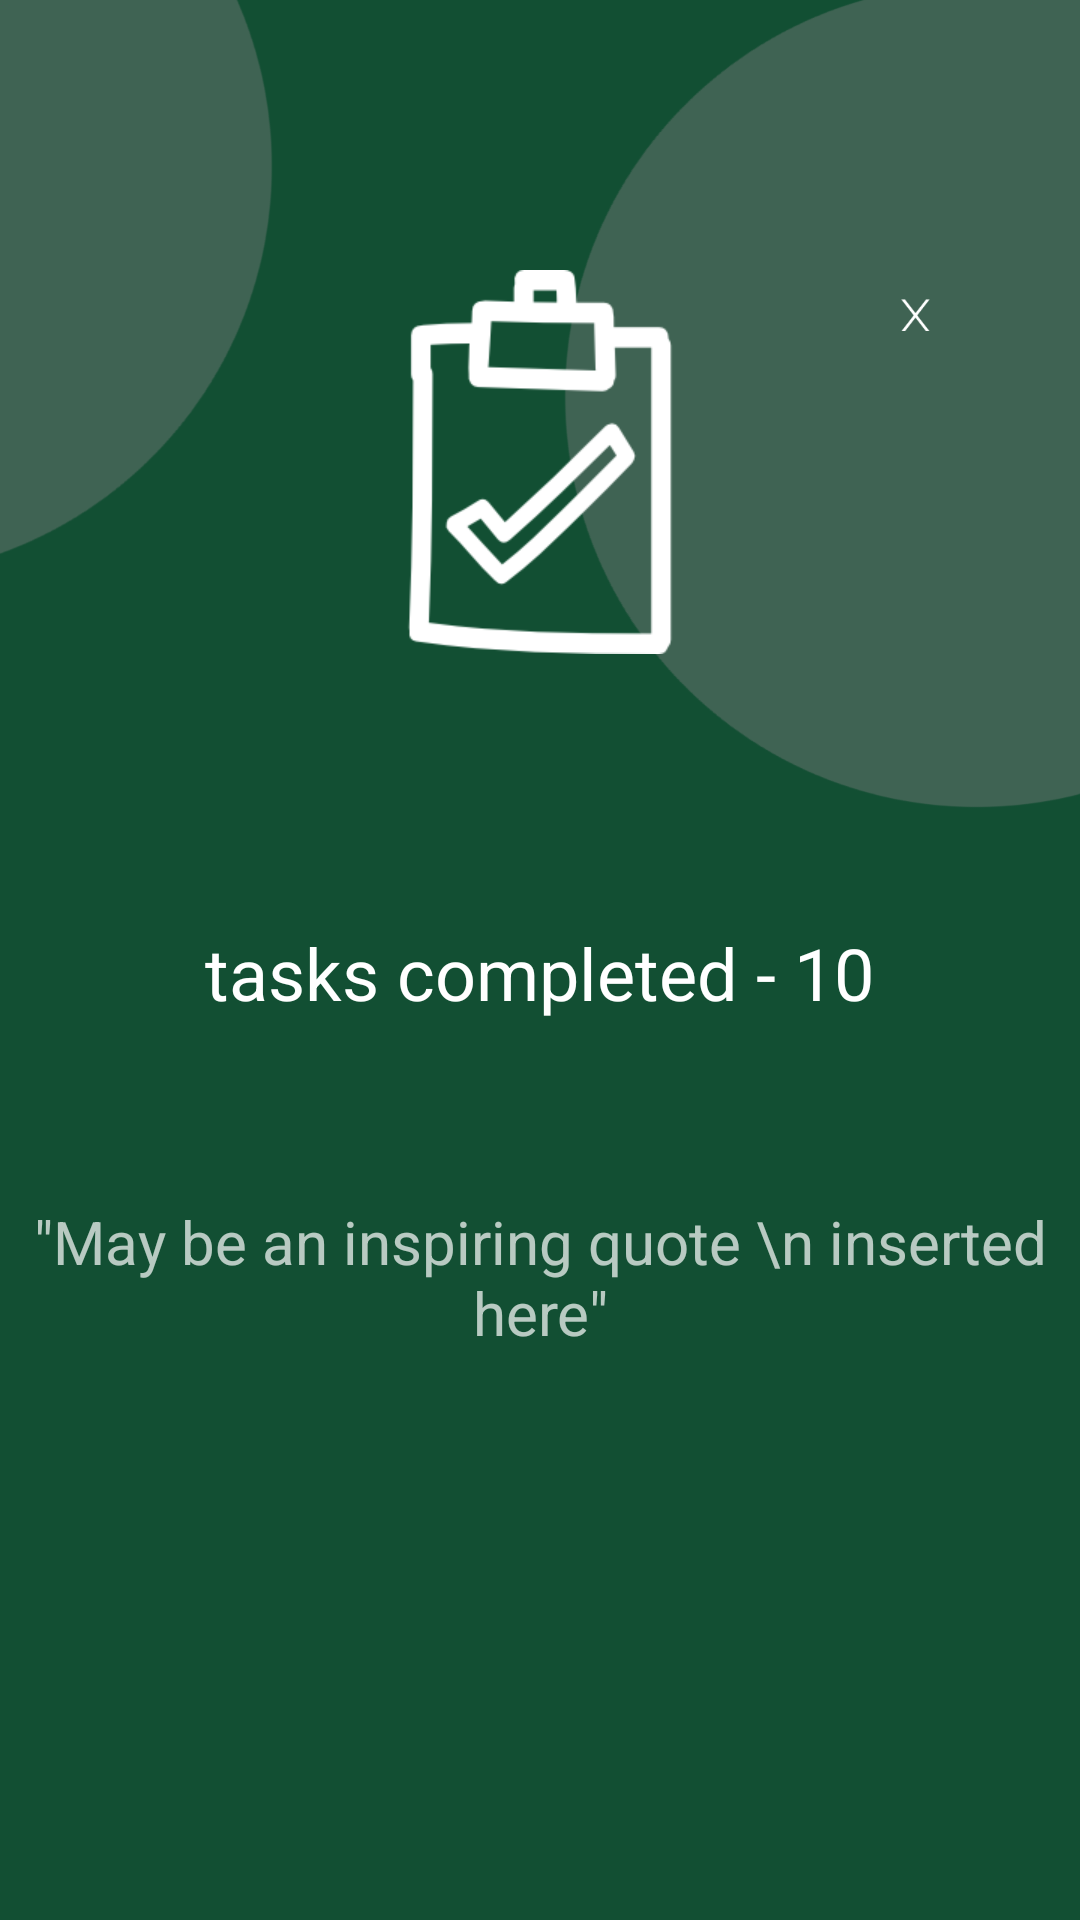

Screen size 1080×1920. Icon name, then its center in pixels as point (x, y):
close: point (915, 315)
